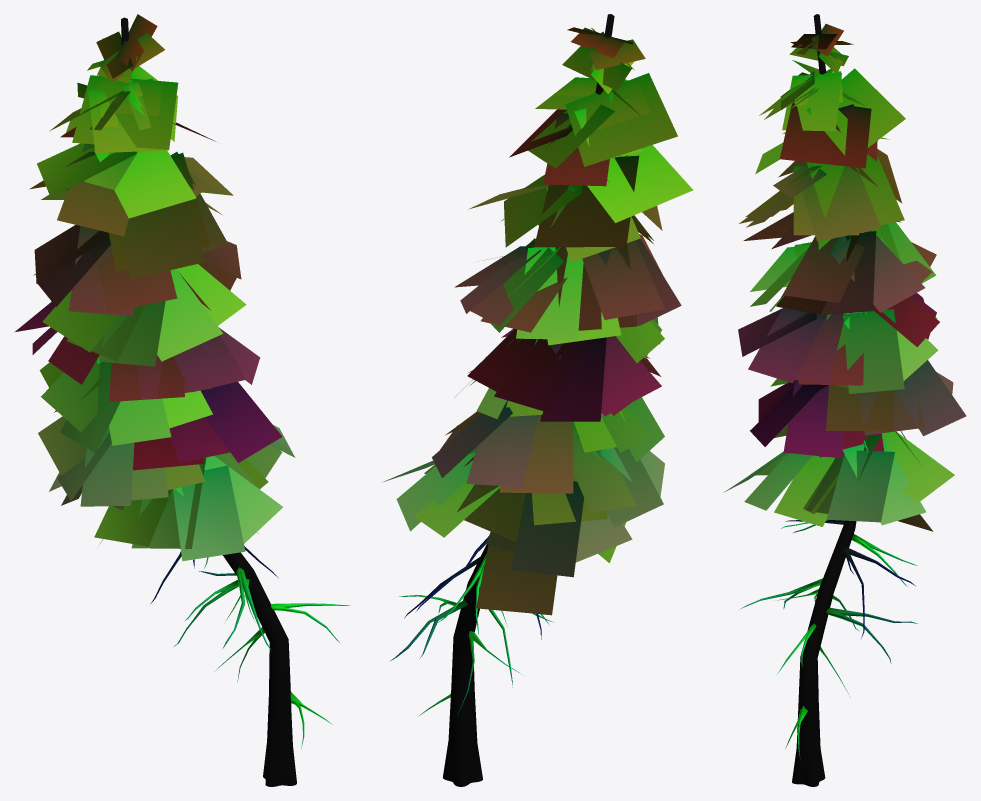
Rendered from M_Pine_4_17.fbx.
3 renders of one model, left to right at view 1: azimuth 30°, elevation 25°; view 2: azimuth 150°, elevation 25°; view 3: azimuth 270°, elevation 25°, orthographic. The views are drawn at different scales.
Parts seen in each view (by area): view 1: Tree_17; view 2: Tree_17; view 3: Tree_17.
Part boxes in pixels (x1=…): Tree_17: x1=14, y1=14, x2=350, y2=786; Tree_17: x1=383, y1=14, x2=693, y2=786; Tree_17: x1=723, y1=14, x2=966, y2=786.
Size of the model in its own units: 1230 by 3149 by 995.
